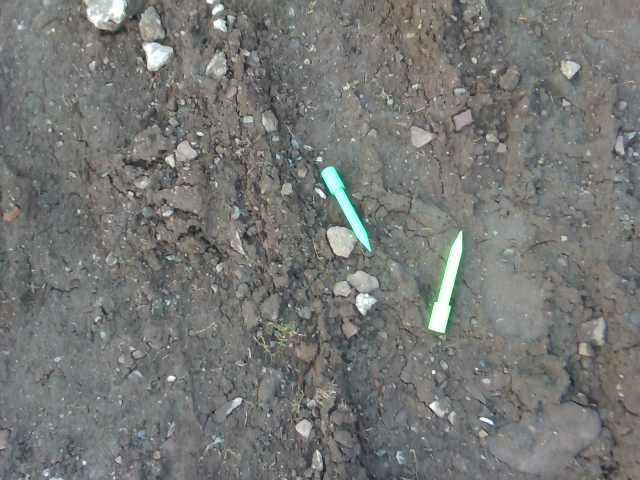Probe: (316, 159, 375, 256), (424, 223, 468, 337)
